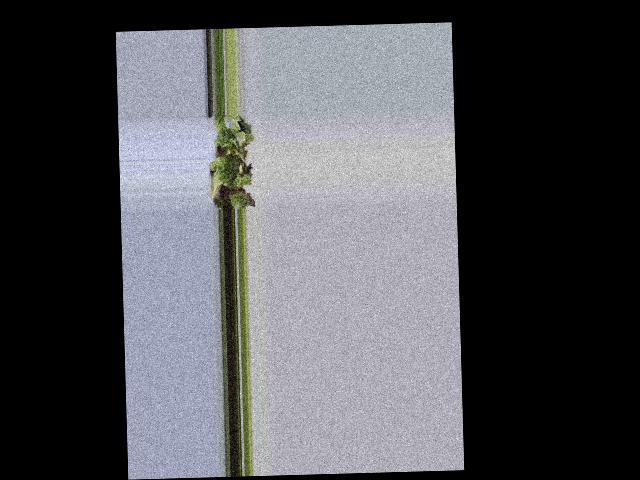lettuce: (214, 119, 251, 206)
